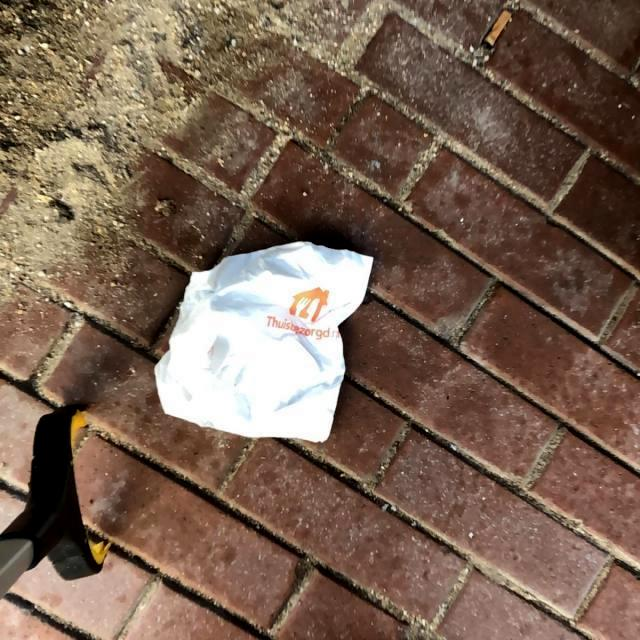Paper: (151, 238, 375, 446)
